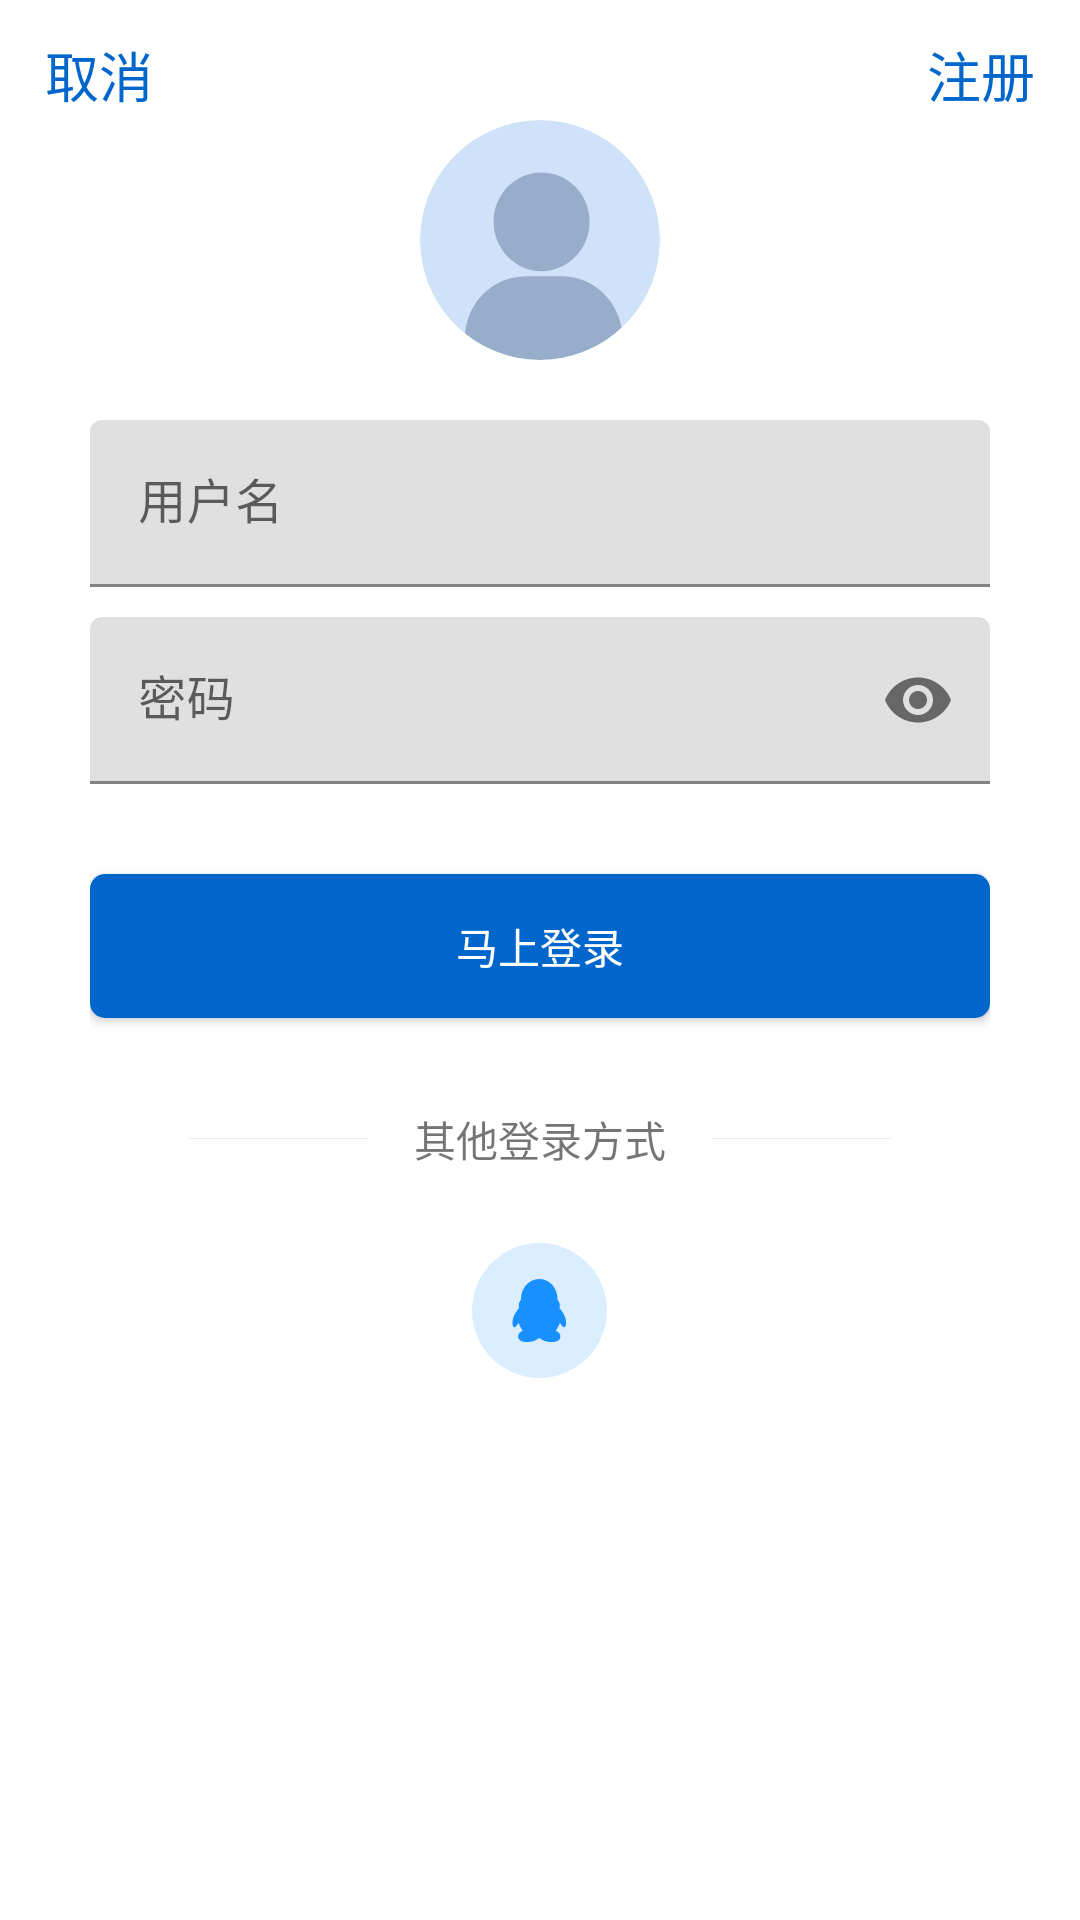

Icons on this 1080 × 1920 Android screen, each with the point to tap as (x=x, y=y):
author: (x=540, y=240)
